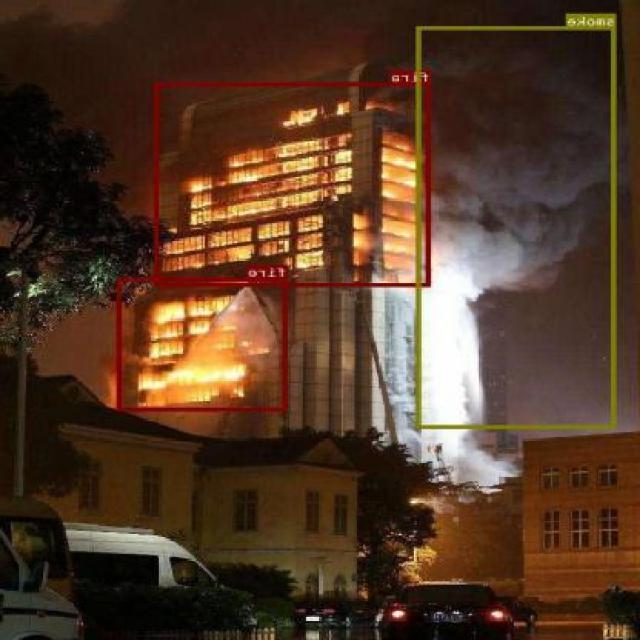Fire: (156, 82, 432, 286), (118, 278, 288, 410)
Smoke: (417, 26, 617, 428)
